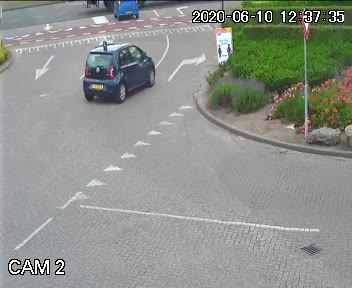car: (77, 33, 164, 108), (111, 0, 140, 23)
